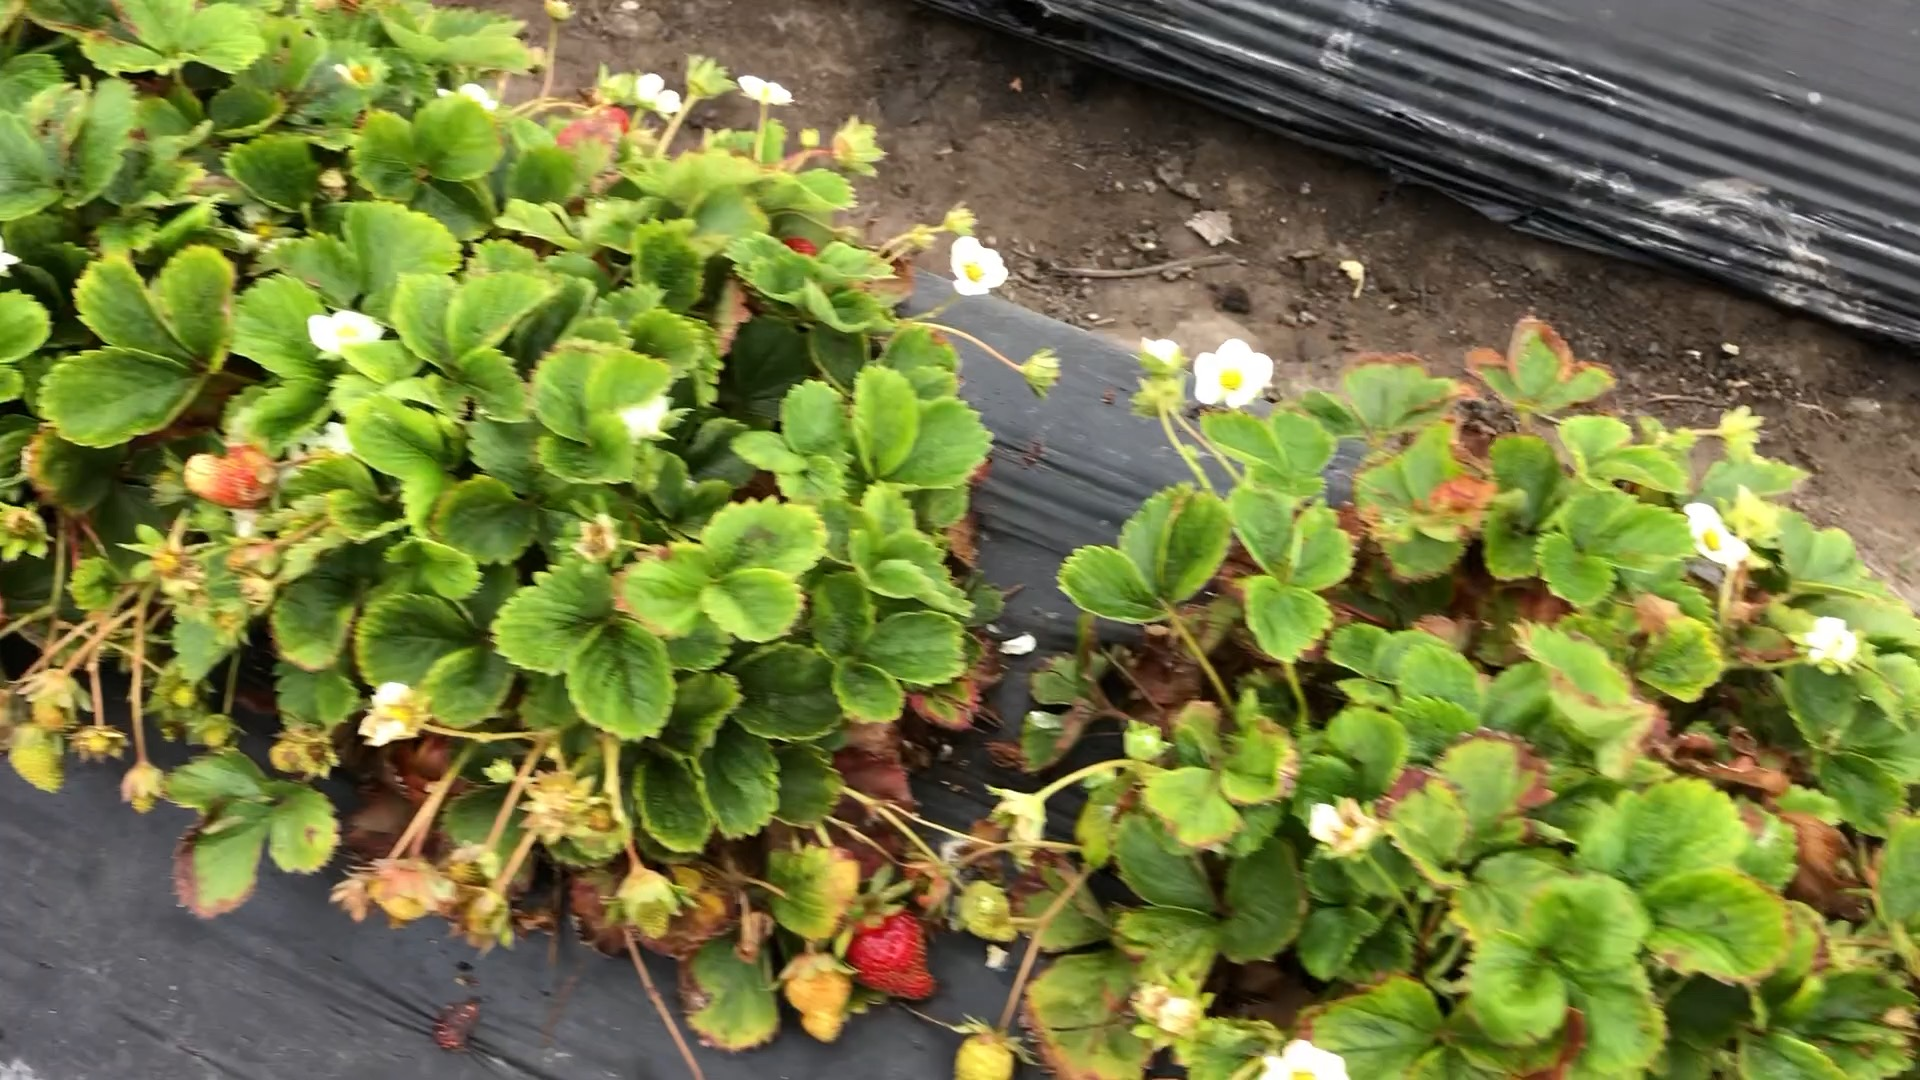ripe_strawberry: (844, 905, 944, 1006)
unripe_strawberry: (179, 440, 289, 518), (781, 949, 844, 1043), (3, 720, 71, 800), (952, 881, 1026, 949), (615, 878, 682, 944), (26, 667, 90, 733), (951, 1027, 1025, 1080), (121, 765, 167, 819)
